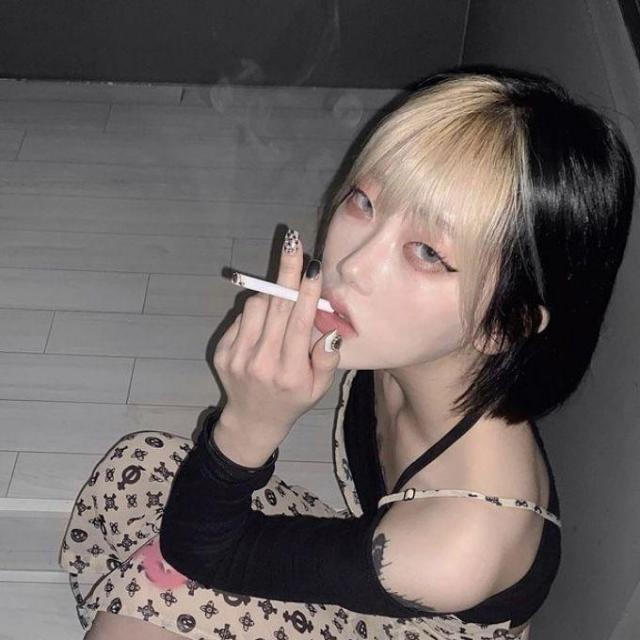cigarette: (211, 270, 351, 306)
